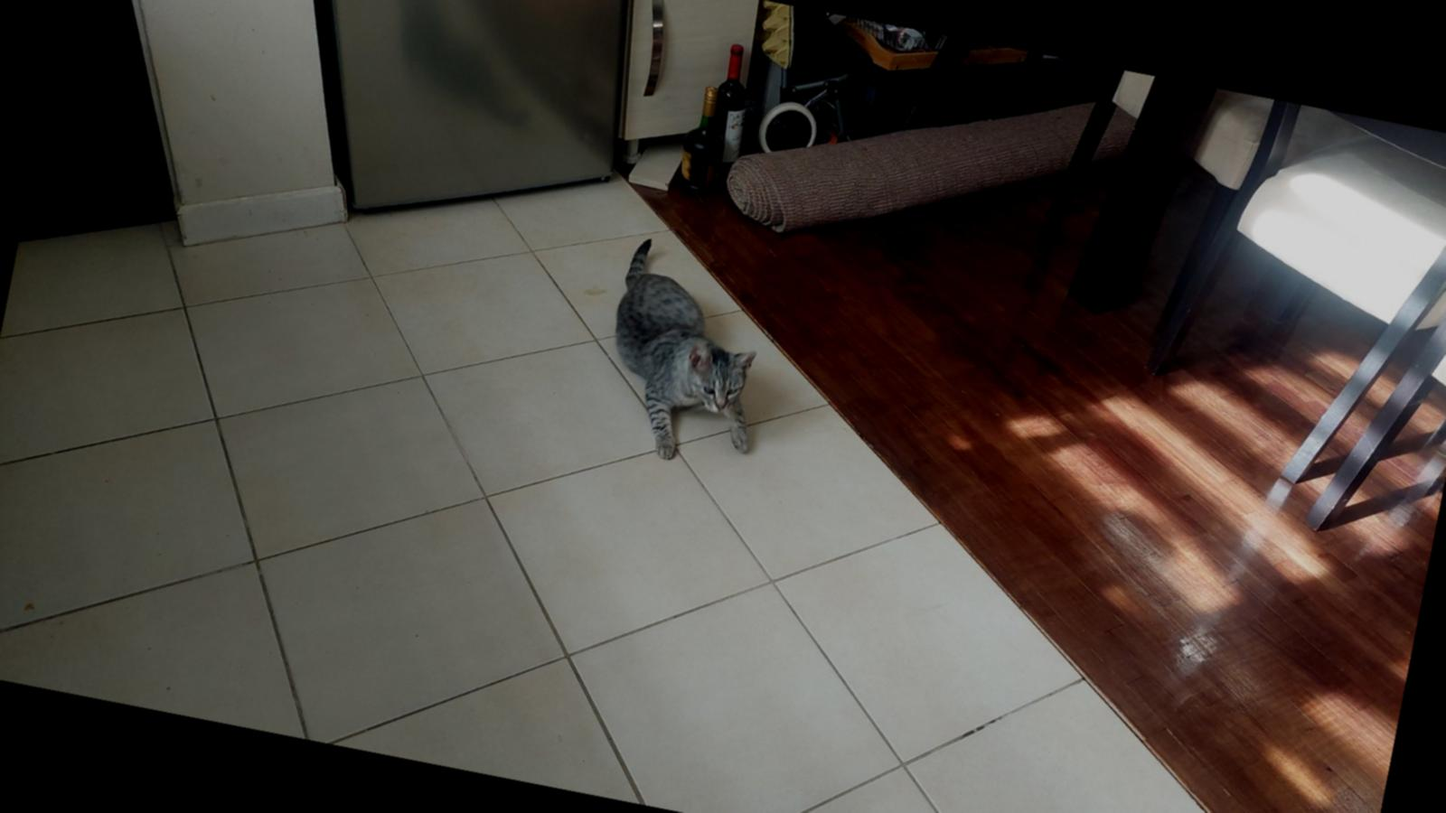macka: (590, 234, 784, 476)
